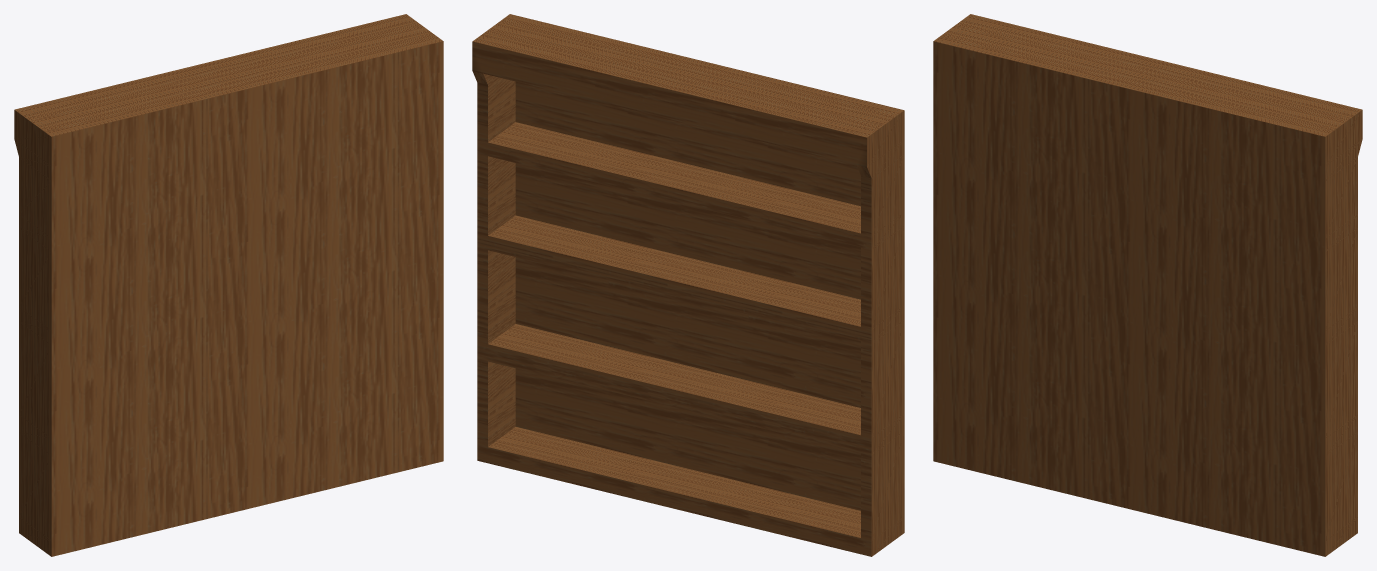
File: Chief office shelf.fbx
3 views of the same model, side by side, from view 1: azimuth 30°, elevation 25°; view 2: azimuth 150°, elevation 25°; view 3: azimuth 330°, elevation 25° (orthographic).
Parts seen in each view (by area): view 1: pCube448; view 2: pCube448; view 3: pCube448.
Boxes of the visible parts, x1,y1,x2,y2 form: pCube448: (14, 14, 443, 556); pCube448: (472, 14, 904, 556); pCube448: (933, 14, 1362, 556).
Size of the model in its own units: 2.27 by 2.33 by 0.3741.
1 material, 1 textured.
